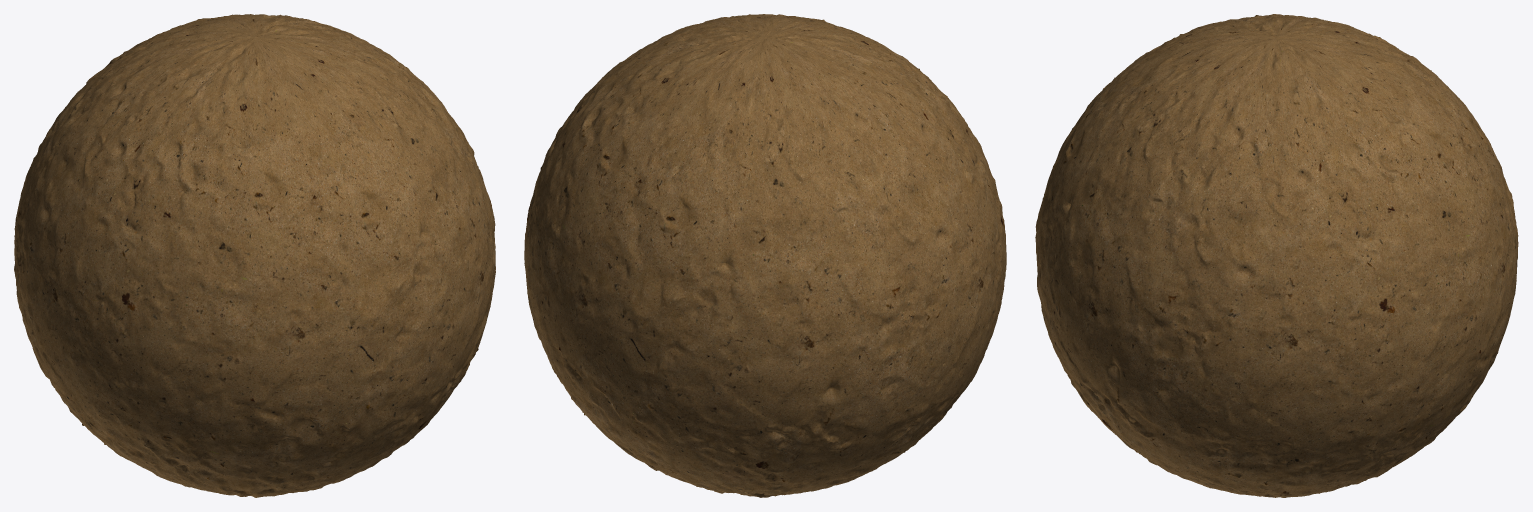
The model's file is damp_sand_2k.gltf.
The picture shows the model from 3 angles, left to right: view 1: azimuth 30°, elevation 25°; view 2: azimuth 150°, elevation 25°; view 3: azimuth 270°, elevation 25°; orthographic projection.
Parts seen in each view (by area): view 1: sphere_gltf; view 2: sphere_gltf; view 3: sphere_gltf.
Part boxes in pixels (bbox=[...]): sphere_gltf: bbox=[14, 14, 495, 497]; sphere_gltf: bbox=[524, 14, 1006, 497]; sphere_gltf: bbox=[1035, 14, 1518, 497].
Size of the model in its own units: 2.06 by 2.06 by 2.06.
Materials: 1 (1 with a texture image).
